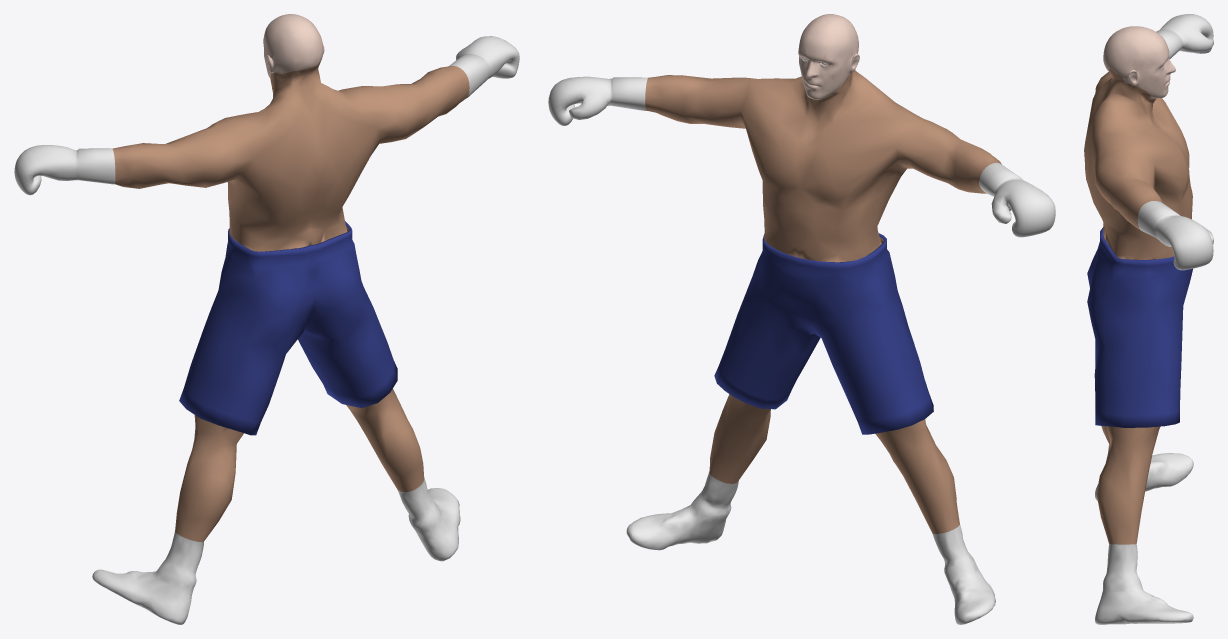
File: BOXER_2.fbx
The picture shows the model from 3 angles, left to right: view 1: azimuth 30°, elevation 25°; view 2: azimuth 150°, elevation 25°; view 3: azimuth 270°, elevation 25°; orthographic projection. The views are drawn at different scales.
Visible parts, largest first — view 1: BOXER.008; view 2: BOXER.008; view 3: BOXER.008.
Part boxes in pixels (x1,y1,x2,y2): BOXER.008: (14,14,519,624); BOXER.008: (548,14,1055,624); BOXER.008: (1084,14,1213,624).
Size of the model in its own units: 334 by 360 by 79.11.
